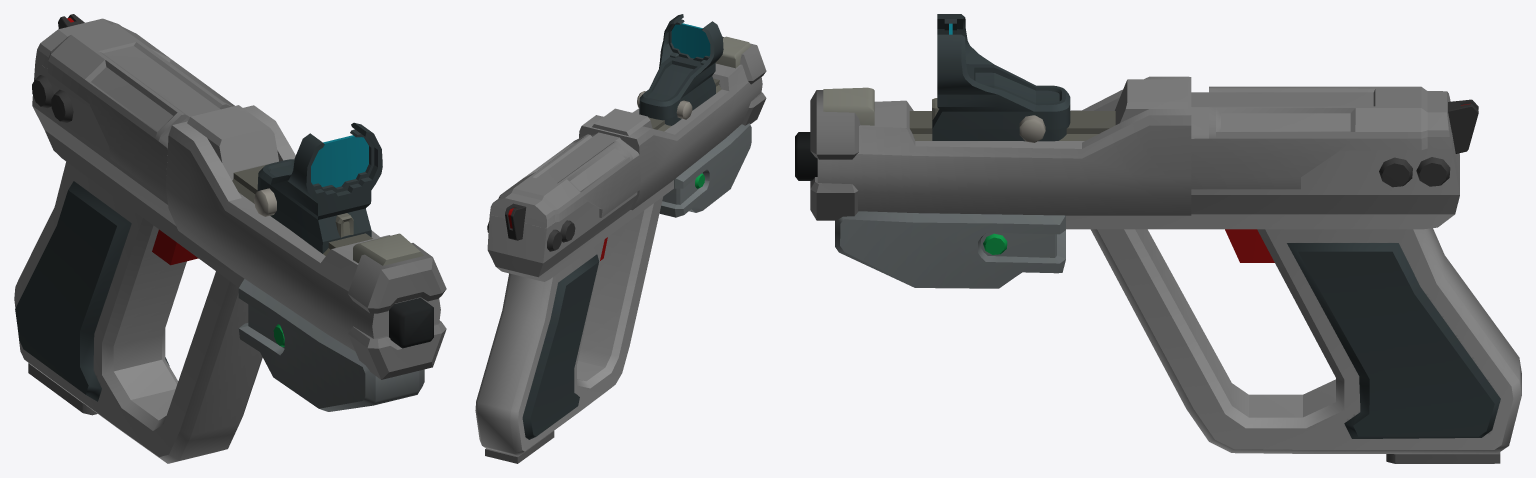
The model's file is D14 SWS.fbx.
The picture shows the model from 3 angles, left to right: view 1: azimuth 30°, elevation 25°; view 2: azimuth 150°, elevation 25°; view 3: azimuth 270°, elevation 25°; orthographic projection. The views are drawn at different scales.
Visible parts, largest first — view 1: D14 SWS; view 2: D14 SWS; view 3: D14 SWS.
Part boxes in pixels (x1,y1,x2,y2): D14 SWS: (14, 14, 446, 463); D14 SWS: (475, 14, 766, 463); D14 SWS: (795, 14, 1521, 463).
Bounding box in the file's own units: 7.87 × 34.31 × 52.77.
Materials: 1 (1 with a texture image).
